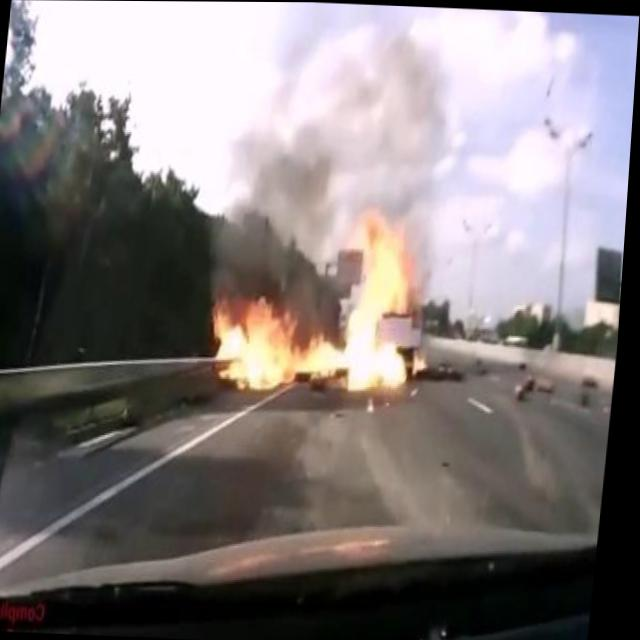fire: (202, 195, 451, 413)
